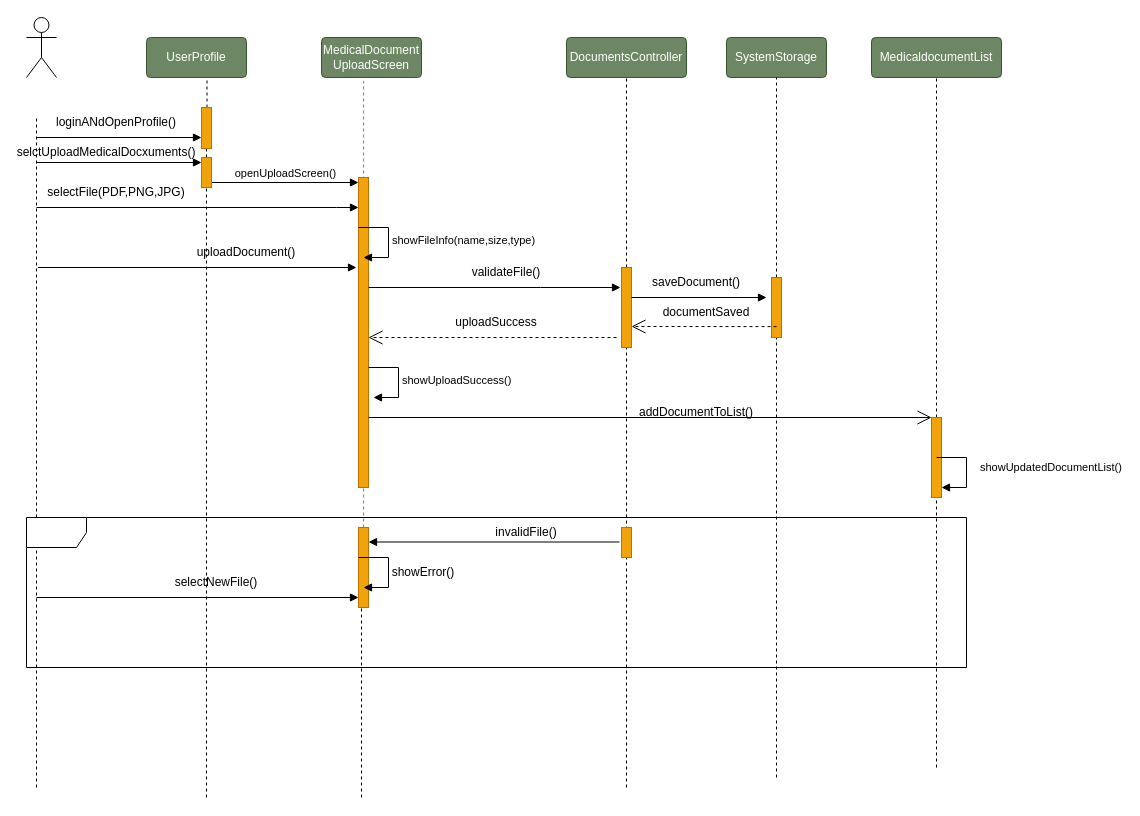
Some shapes in this 1140 by 816 pixel diagram are drawn without their labels. The shapes that lost their labels are listed below. From the top down, each one's box as (x1, y1, x2, y2) in pixels, then its label:
(26, 16, 56, 78): Donor
(26, 516, 966, 668): alt1
